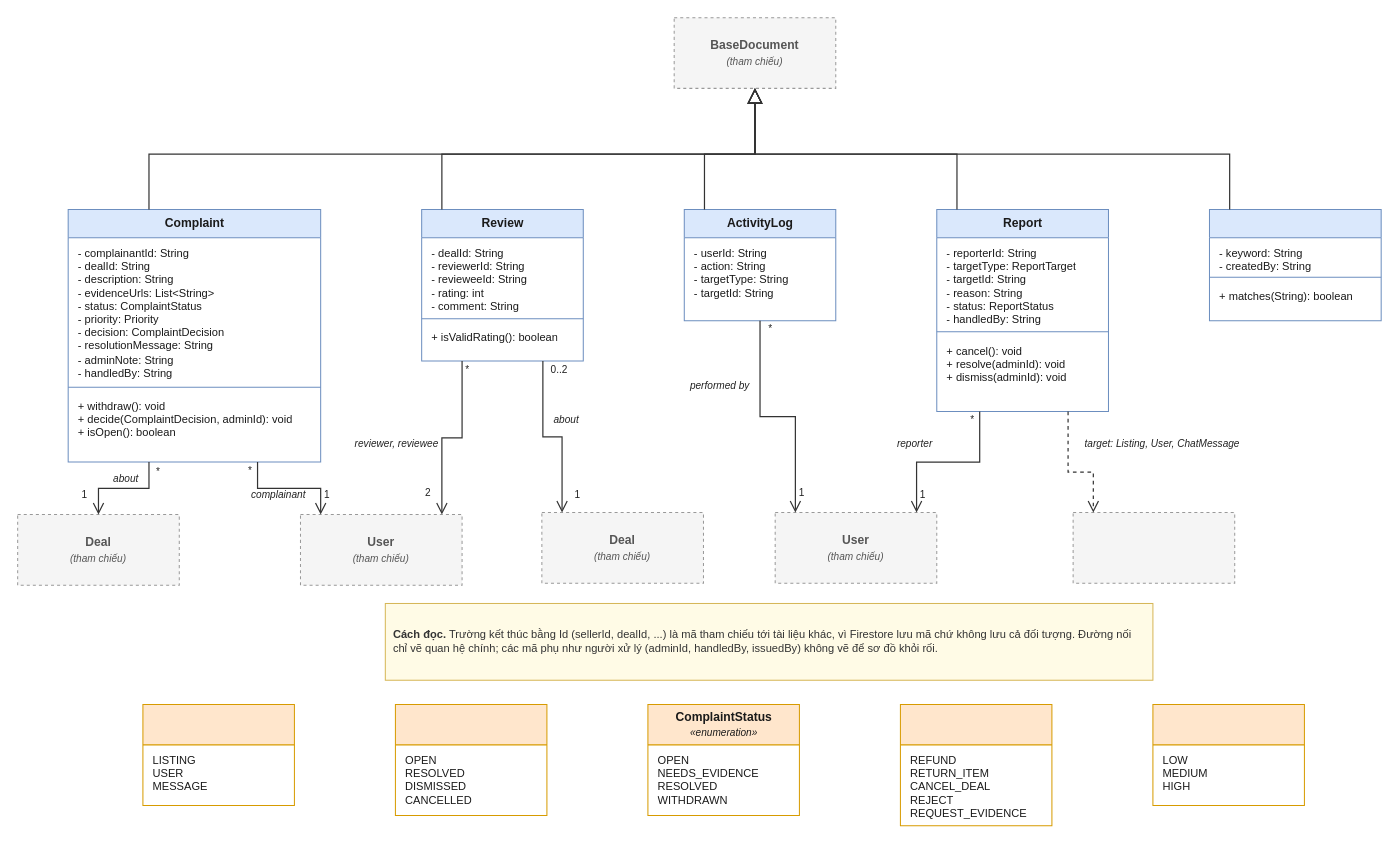
This 1399x843 diagram has some shape labels left out. Here are the shapes that lost their labels. From the top down, the box of each, then its label:
(1208, 209, 1381, 321): BannedKeyword
(1072, 512, 1235, 583): Listing (tham chiếu)
(142, 703, 294, 805): ReportTarget «enumeration»
(394, 703, 547, 816): ReportStatus «enumeration»
(899, 703, 1052, 826): ComplaintDecision «enumeration»
(1152, 703, 1304, 805): Priority «enumeration»
